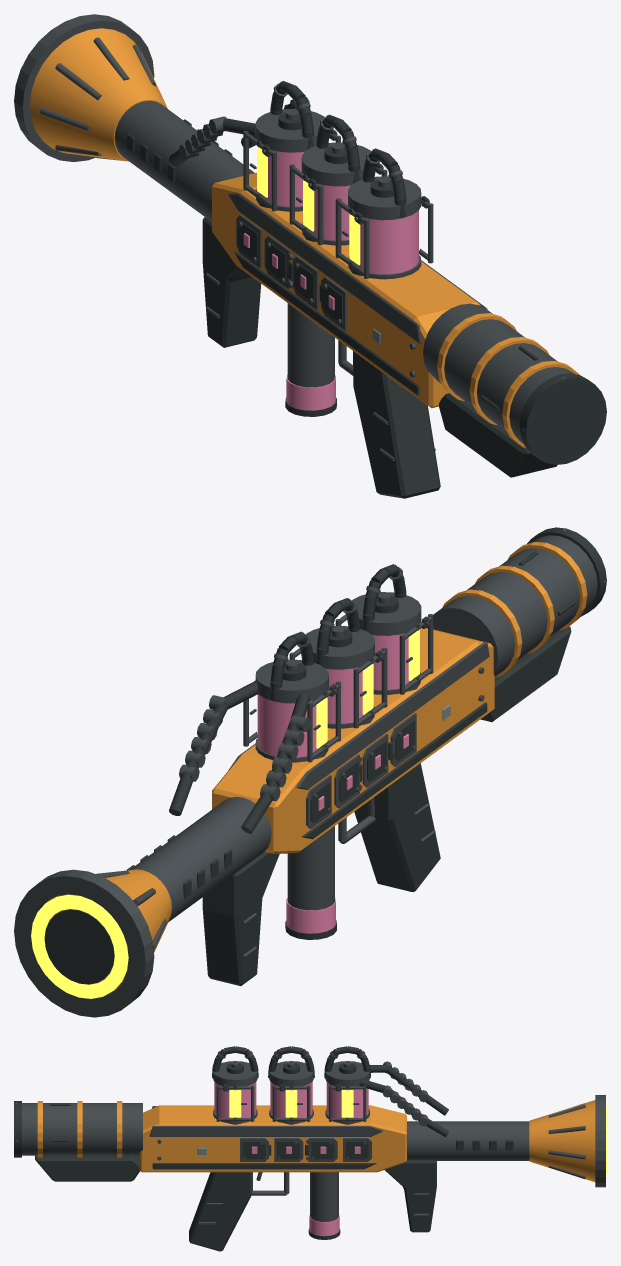
File: sticky_0.glb
3 views of the same model, one above another, from view 1: azimuth 30°, elevation 25°; view 2: azimuth 150°, elevation 25°; view 3: azimuth 270°, elevation 25° (orthographic). The views are drawn at different scales.
Parts seen in each view (by area): view 1: Weapon_sticky_v1; view 2: Weapon_sticky_v1; view 3: Weapon_sticky_v1.
Boxes of the visible parts, left/top/right/bottom form: Weapon_sticky_v1: left=14, top=14, right=606, bottom=498; Weapon_sticky_v1: left=14, top=527, right=606, bottom=1017; Weapon_sticky_v1: left=14, top=1046, right=606, bottom=1251.
Size of the model in its own units: 0.14 by 0.3345 by 0.8975.
